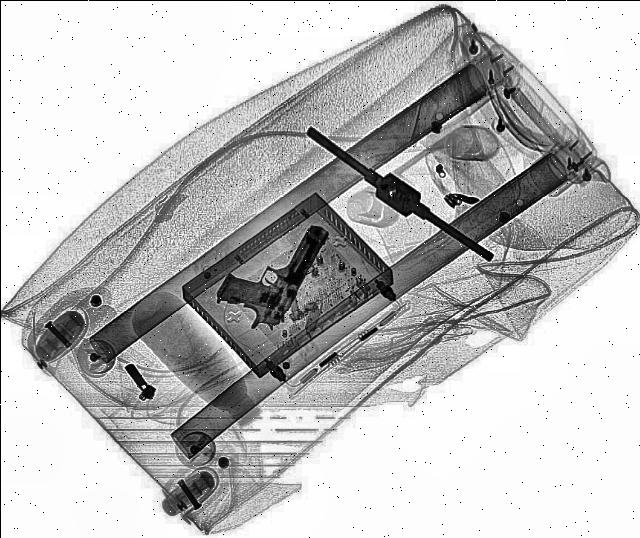Gun: (203, 207, 333, 336)
